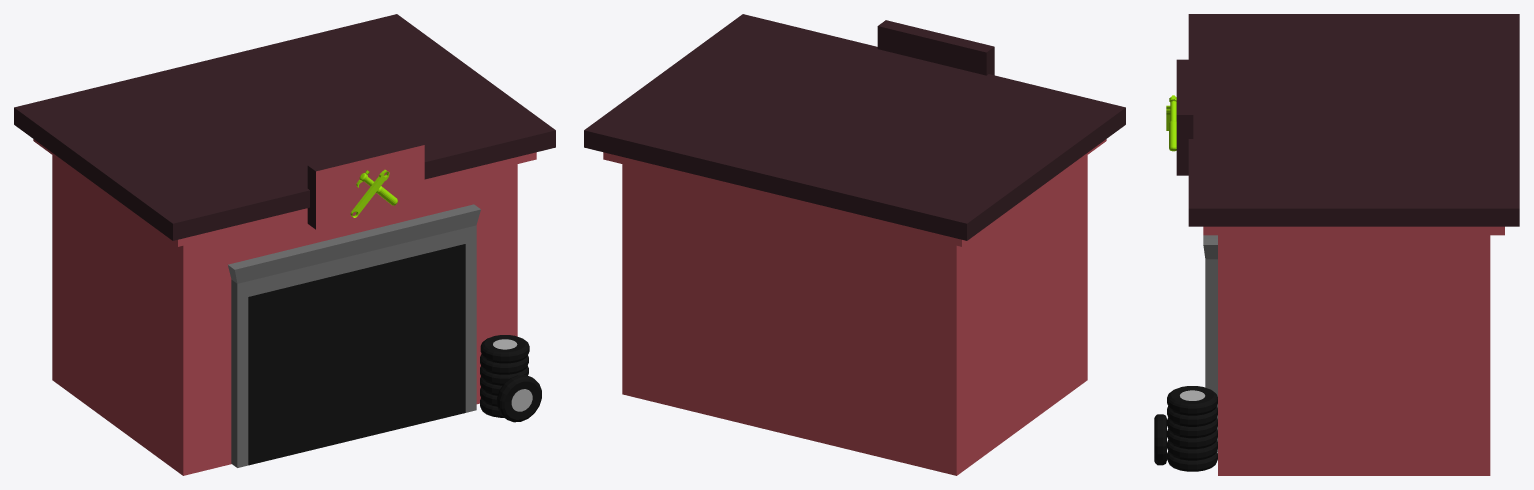
Rendered from oficina_mecanica.fbx.
The picture shows the model from 3 angles, left to right: view 1: azimuth 30°, elevation 25°; view 2: azimuth 150°, elevation 25°; view 3: azimuth 270°, elevation 25°; orthographic projection. The views are drawn at different scales.
Visible parts, largest first — view 1: oficina_mecanica; view 2: oficina_mecanica; view 3: oficina_mecanica.
Boxes of the visible parts, x1,y1,x2,y2 form: oficina_mecanica: (14, 14, 555, 475); oficina_mecanica: (584, 14, 1125, 475); oficina_mecanica: (1154, 14, 1519, 475).
Size of the model in its own units: 434 by 315 by 344.
